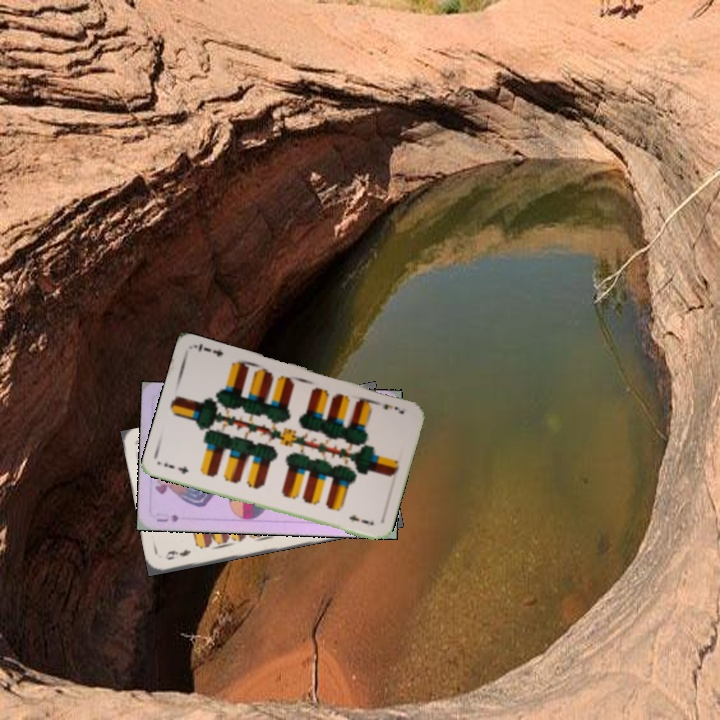E7: (370, 397, 406, 417), (160, 459, 191, 477)
E9: (161, 546, 193, 563)
SU: (152, 509, 181, 525)
